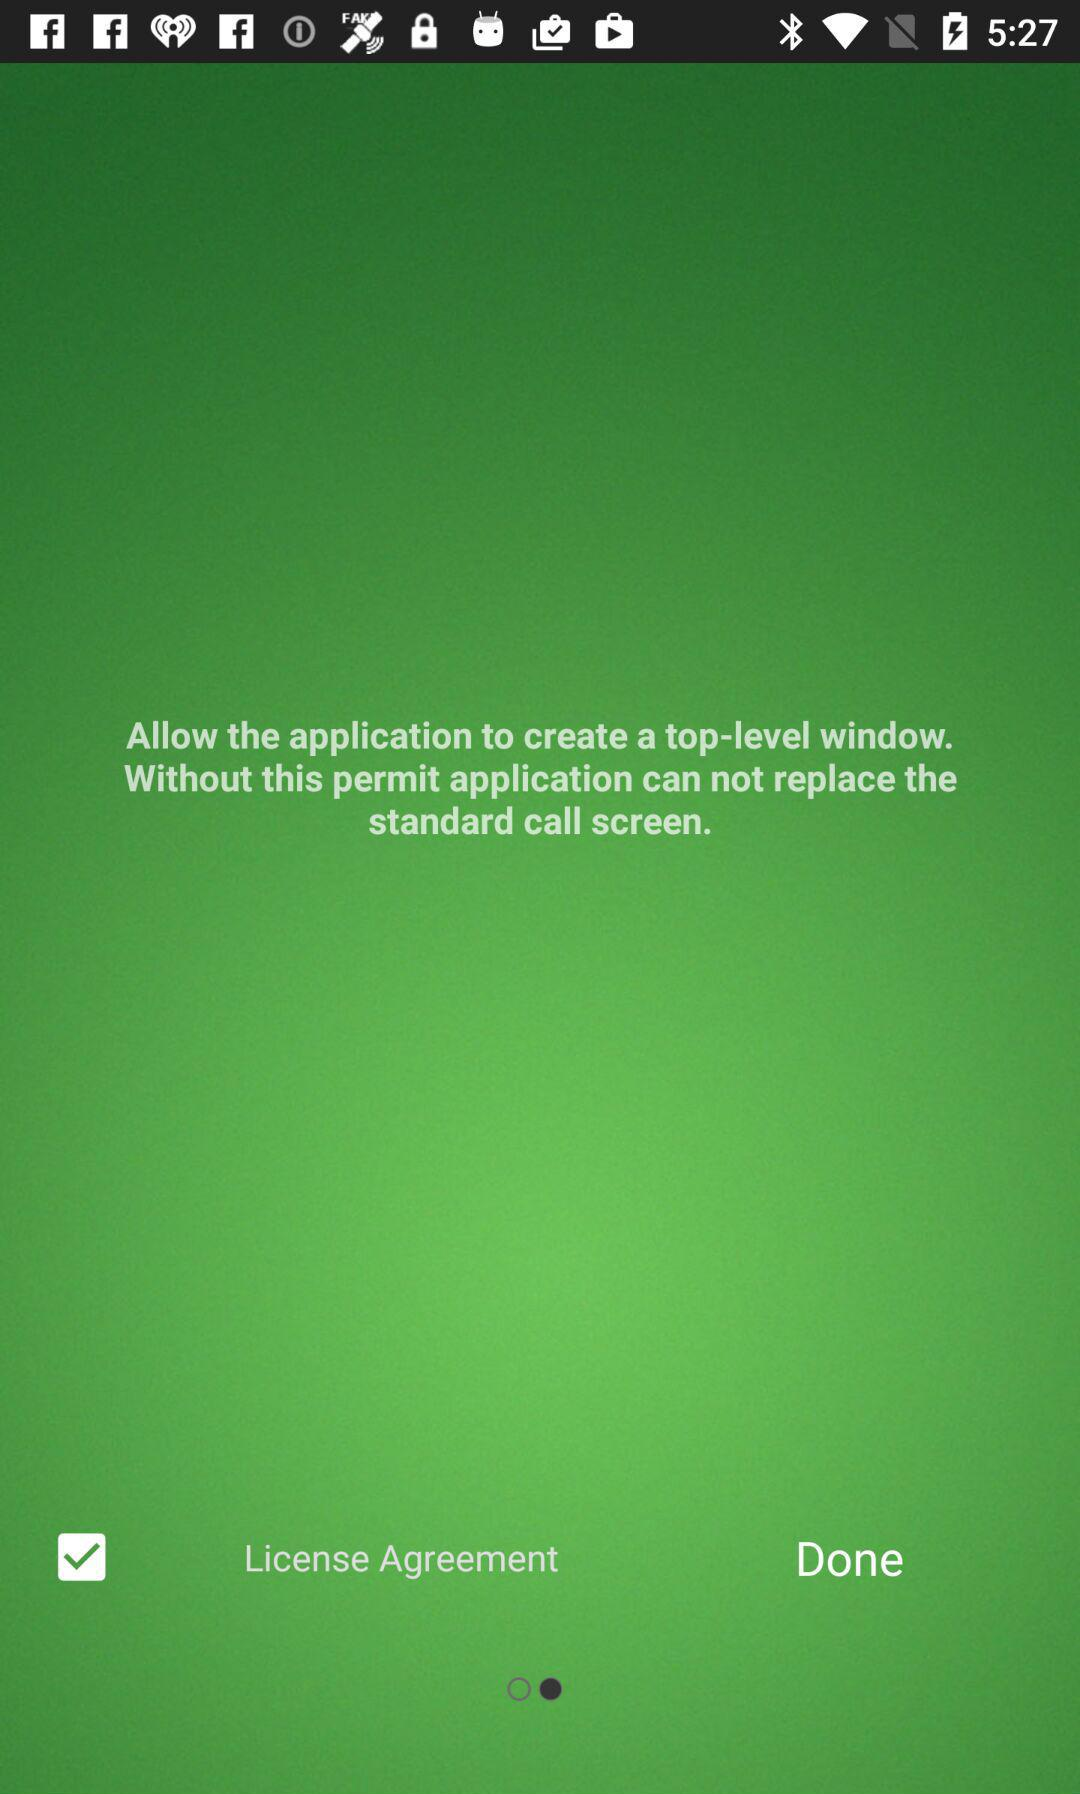CheckedTextView: (58, 1533, 561, 1583)
PageIndicator: (506, 1676, 564, 1703)
Text: (123, 719, 958, 835), (245, 1544, 559, 1581), (798, 1542, 904, 1577)
UpperTaskBar: (1, 1, 1080, 64)
